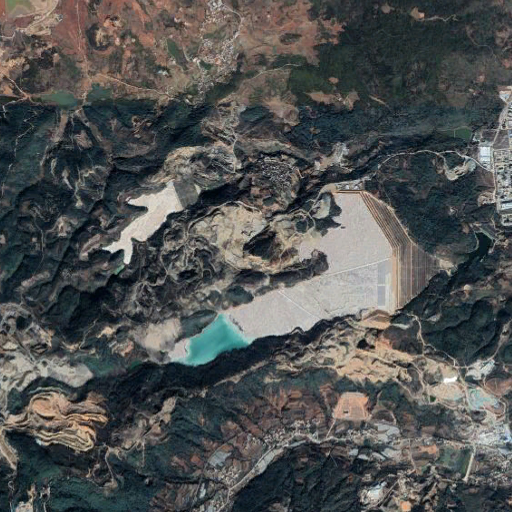tp: (160, 189, 437, 367), (102, 179, 203, 263)
